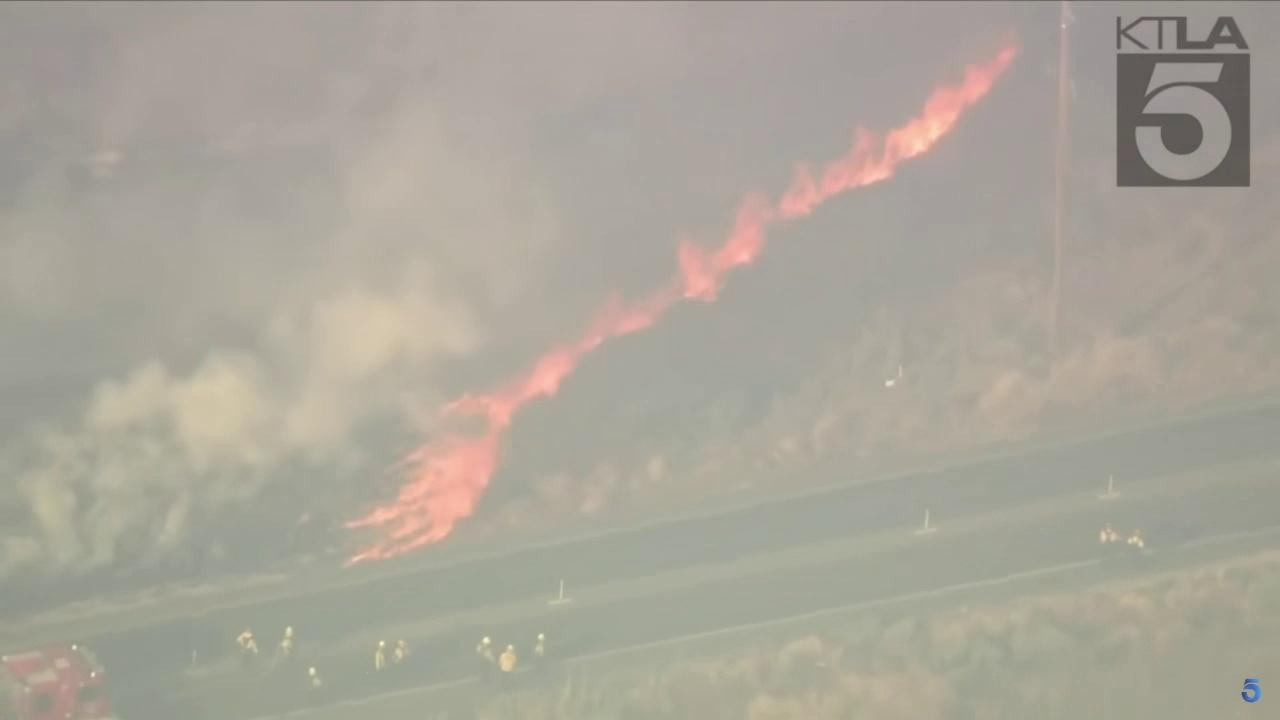fire: (344, 37, 1022, 571)
smoke: (0, 0, 1118, 573)
